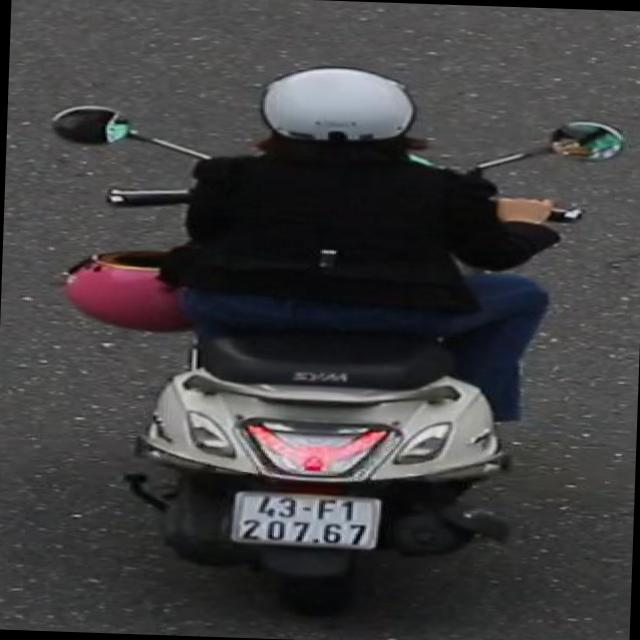LP: (226, 488, 392, 558)
helmet: (247, 63, 435, 175)
